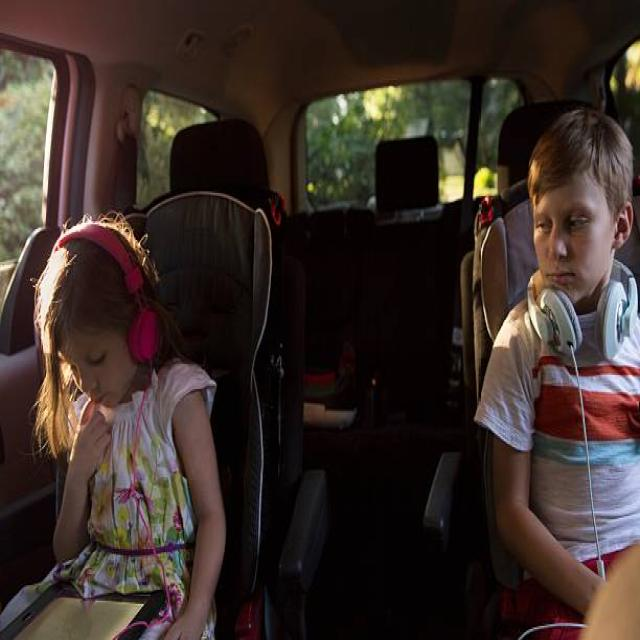Headphone: (52, 223, 162, 365), (527, 253, 640, 361)
